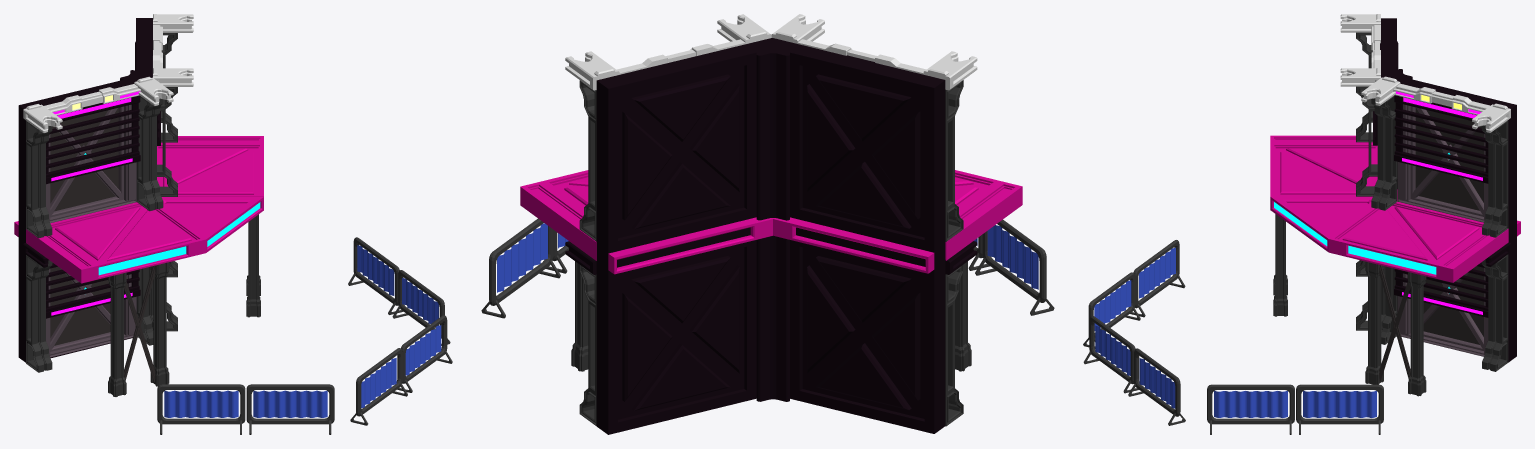
The model's file is Vbarrier.fbx.
3 views of the same model, side by side, from view 1: azimuth 30°, elevation 25°; view 2: azimuth 150°, elevation 25°; view 3: azimuth 270°, elevation 25° (orthographic). The views are drawn at different scales.
Parts seen in each view (by area): view 1: Plane.005; view 2: Plane.005; view 3: Plane.005.
Boxes of the visible parts, x1,y1,x2,y2 form: Plane.005: [14, 14, 452, 434]; Plane.005: [481, 14, 1054, 434]; Plane.005: [1083, 14, 1520, 434].
Size of the model in its own units: 2037 by 1481 by 2264.
